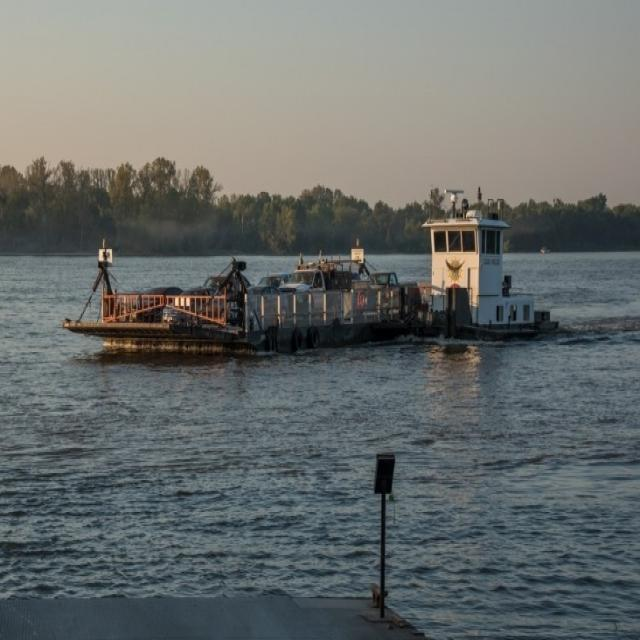cargoship: (84, 187, 540, 369)
